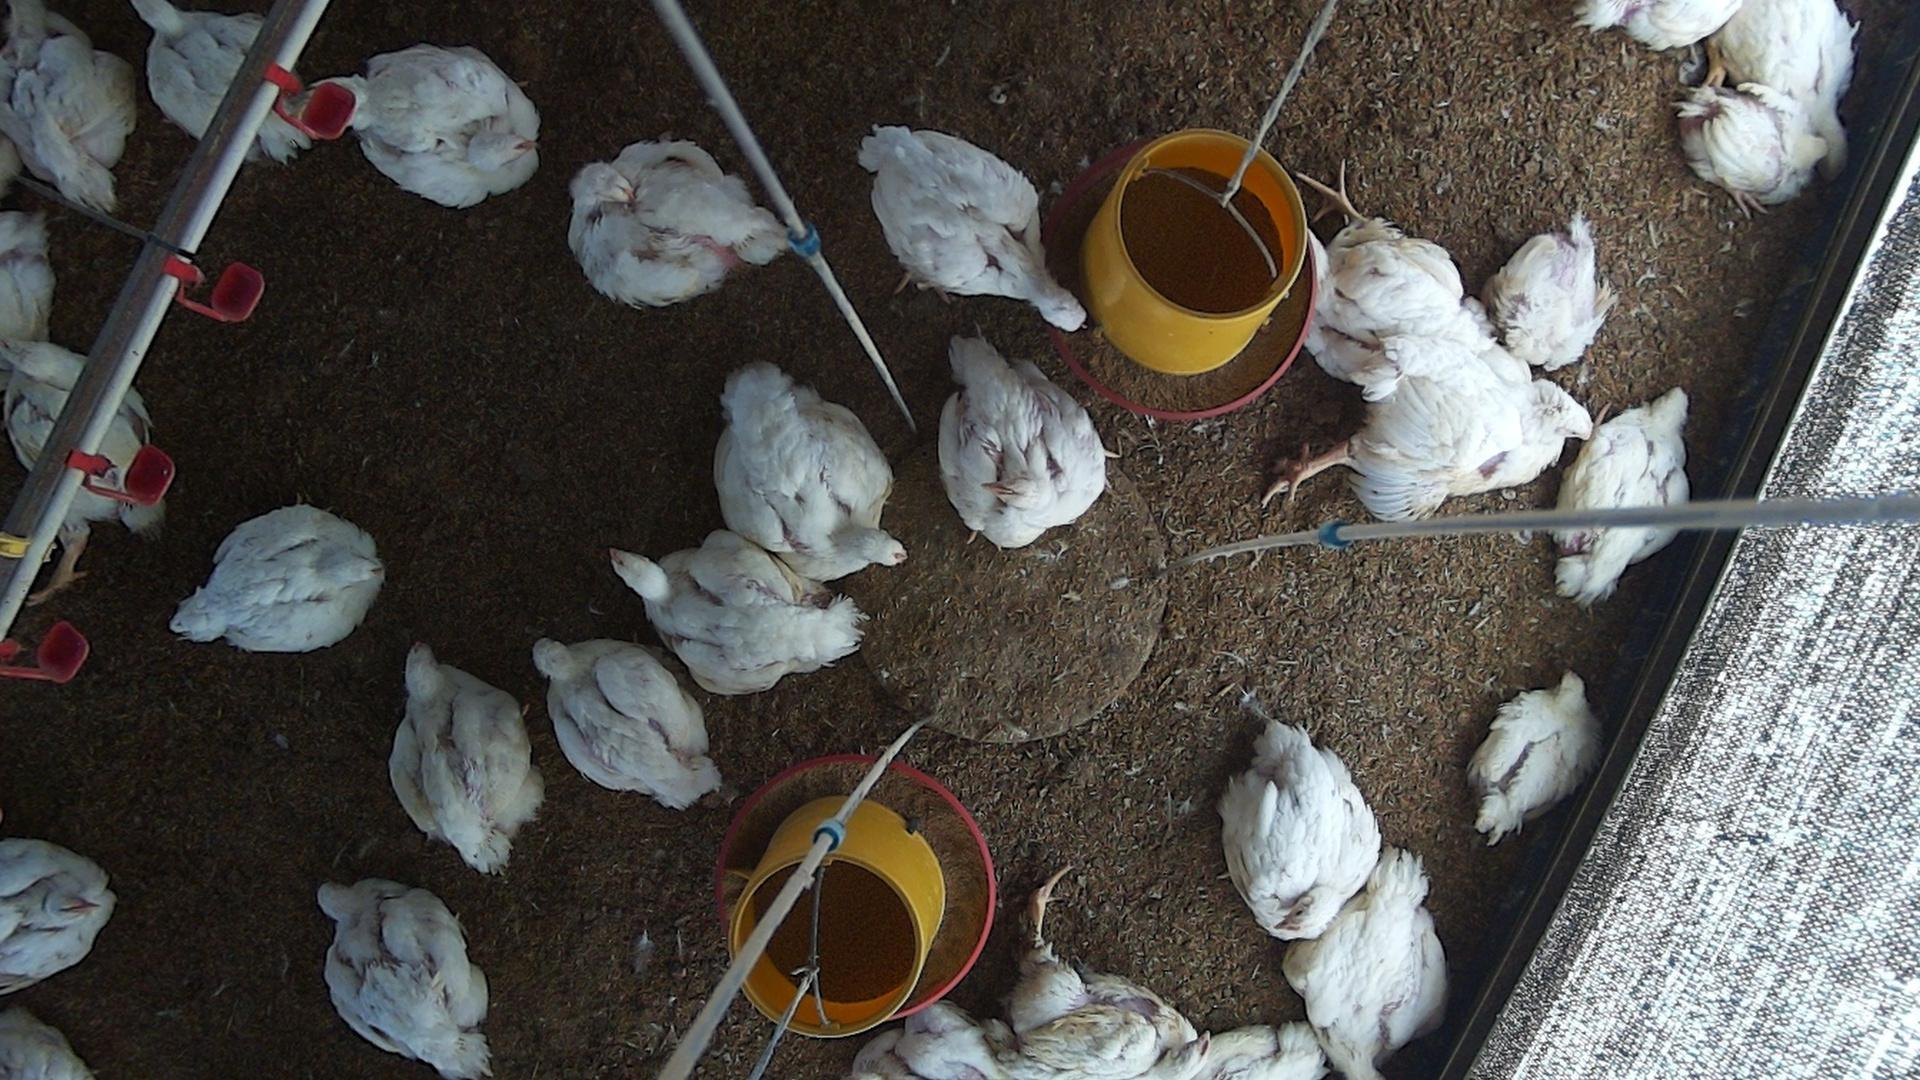ayam_broiler: (1259, 353, 1593, 520), (985, 862, 1211, 1080), (864, 129, 1088, 328), (613, 533, 861, 695), (715, 363, 901, 576), (938, 336, 1121, 549), (567, 141, 793, 307), (1296, 158, 1462, 384), (1296, 849, 1447, 1079), (1222, 721, 1381, 939), (392, 645, 542, 873), (320, 878, 491, 1077), (338, 44, 541, 208), (530, 640, 720, 807), (171, 505, 385, 651), (1547, 388, 1688, 604), (7, 7, 137, 218), (1717, 0, 1858, 181), (1470, 673, 1597, 844), (1482, 211, 1617, 372), (1673, 82, 1828, 218), (0, 839, 115, 992), (852, 1006, 993, 1080)
